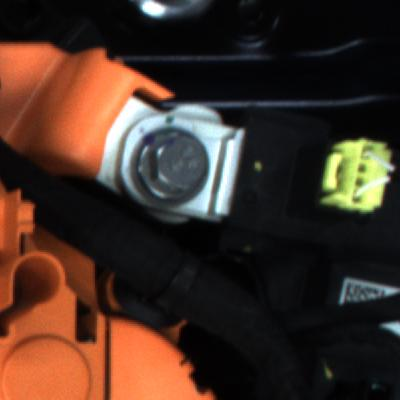nut_b: (120, 121, 218, 208)
